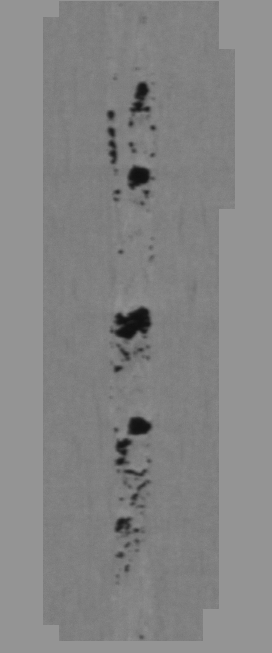oxl: (35, 10, 237, 643)
